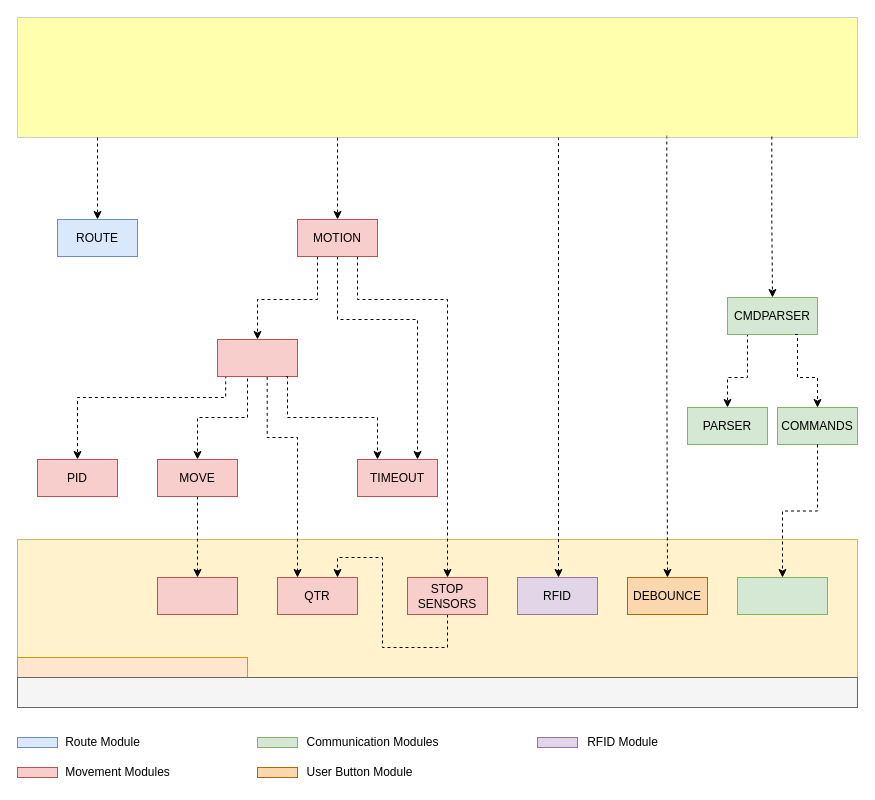
Some shapes in this 875 by 800 pixel diagram are drawn without their labels. Here are the shapes that lost their labels. From the top down, the centre of each, then its label:
(x=437, y=77): FSM
(x=257, y=357): LFOLLOWER
(x=197, y=595): MOTOR
(x=782, y=595): BLUETOOTH
(x=132, y=667): HARDWARE INTERACTION MODULES
(x=437, y=692): HAL
